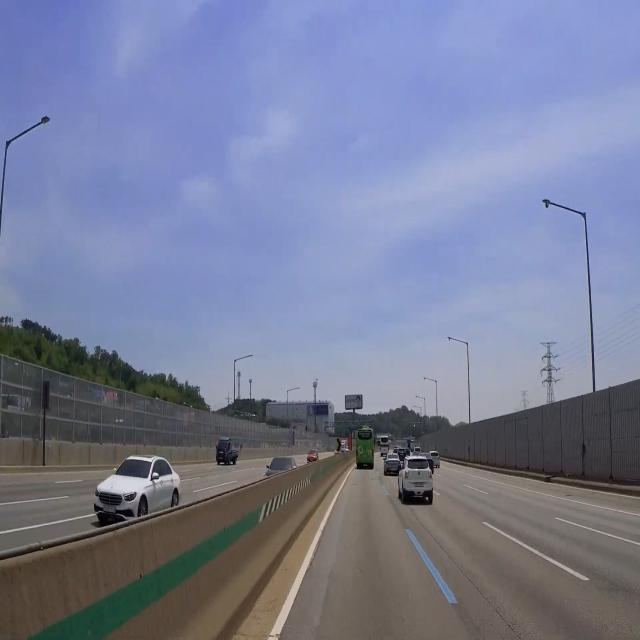car: (100, 497, 118, 521), (411, 479, 427, 492)
